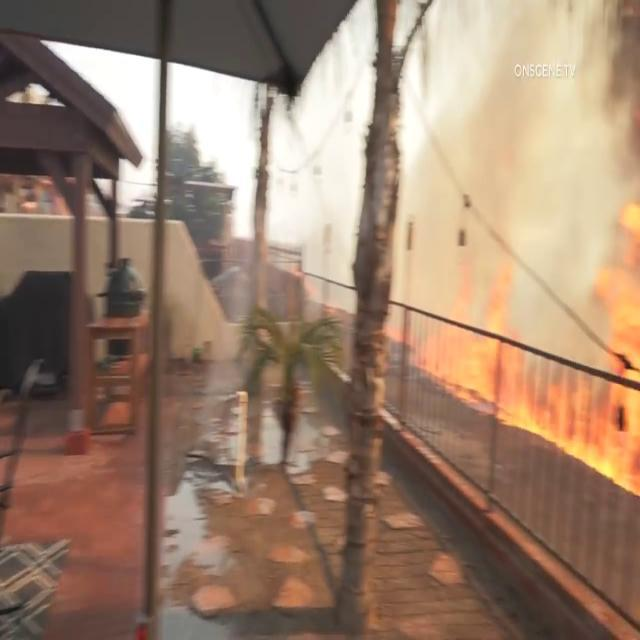Fire: (406, 210, 640, 528)
Smoke: (396, 0, 640, 340)
